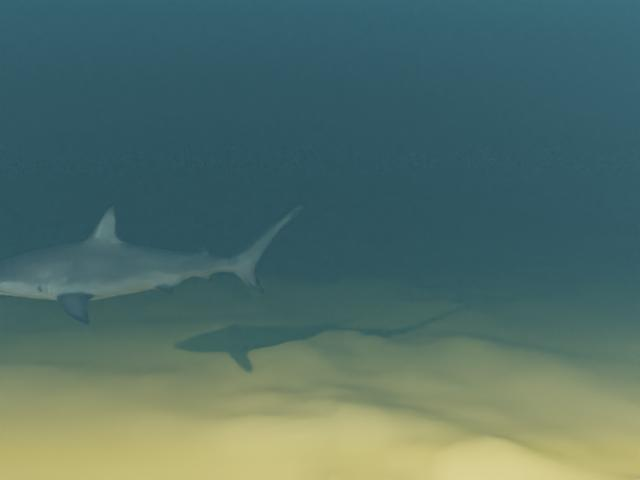Carribean Shark.001: (0, 205, 304, 325)
